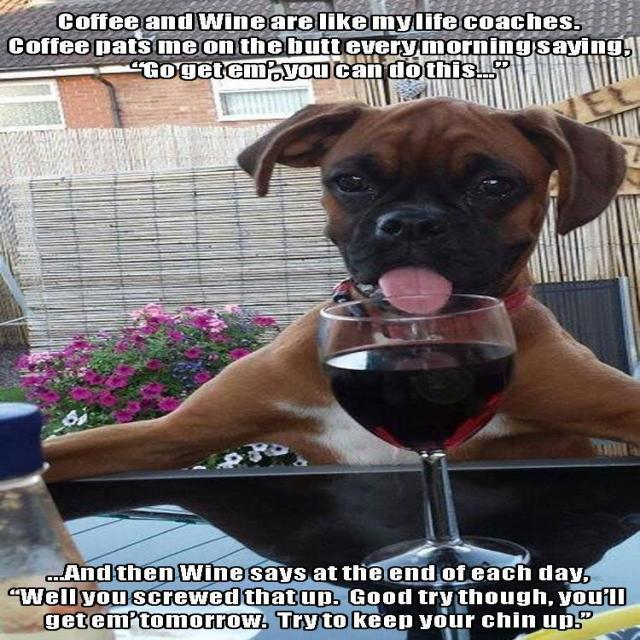dog: (223, 81, 640, 326)
